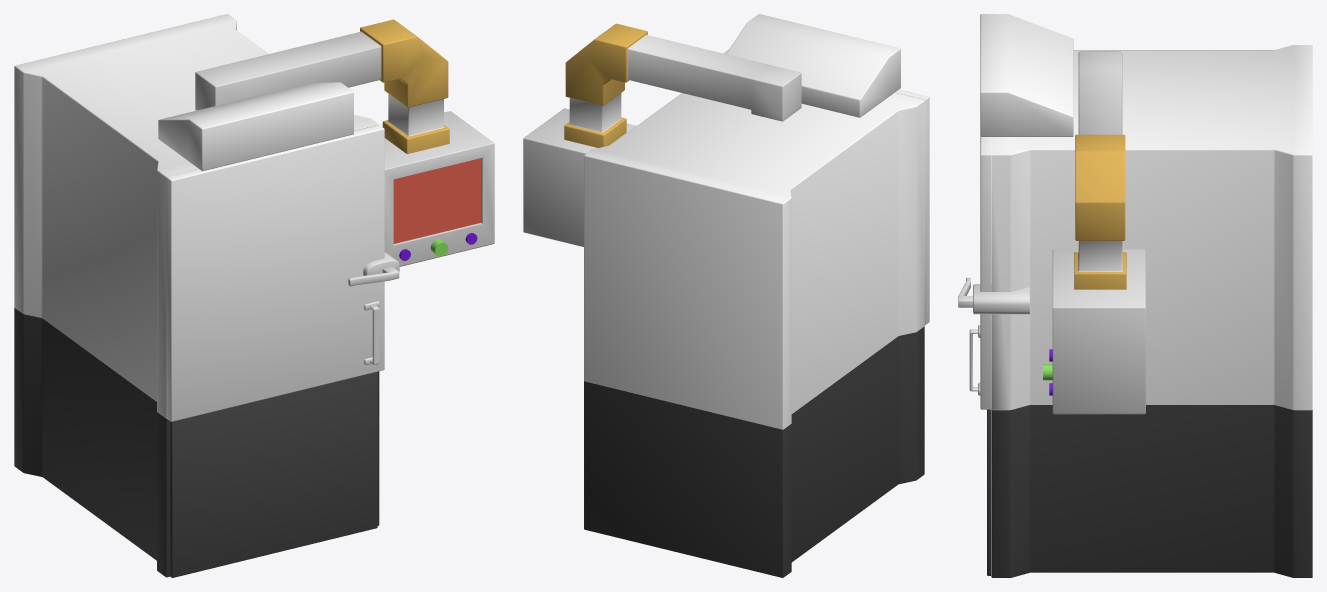
Rendered from S_XRay.fbx.
3 views of the same model, side by side, from view 1: azimuth 30°, elevation 25°; view 2: azimuth 150°, elevation 25°; view 3: azimuth 270°, elevation 25° (orthographic). The views are drawn at different scales.
Visible parts, largest first — view 1: Cube.070, Cube.073, Cube.072, Cube.071; view 2: Cube.070, Cube.073, Cube.071, Cube.072; view 3: Cube.070, Cube.072, Cube.073, Cube.071, Cube.077.
Boxes of the visible parts, bbox=[...] form: Cube.070: bbox=[14, 14, 384, 577]; Cube.073: bbox=[195, 19, 449, 153]; Cube.072: bbox=[384, 111, 494, 266]; Cube.071: bbox=[158, 82, 353, 171]; Cube.070: bbox=[584, 49, 929, 577]; Cube.073: bbox=[564, 23, 801, 147]; Cube.071: bbox=[726, 14, 900, 117]; Cube.072: bbox=[523, 108, 636, 246]; Cube.070: bbox=[980, 45, 1312, 577]; Cube.072: bbox=[1052, 249, 1145, 414]; Cube.073: bbox=[1074, 51, 1126, 289]; Cube.071: bbox=[980, 14, 1073, 136]; Cube.077: bbox=[973, 284, 1029, 314].
Bounding box in the file's own units: 187 × 222 × 152.
